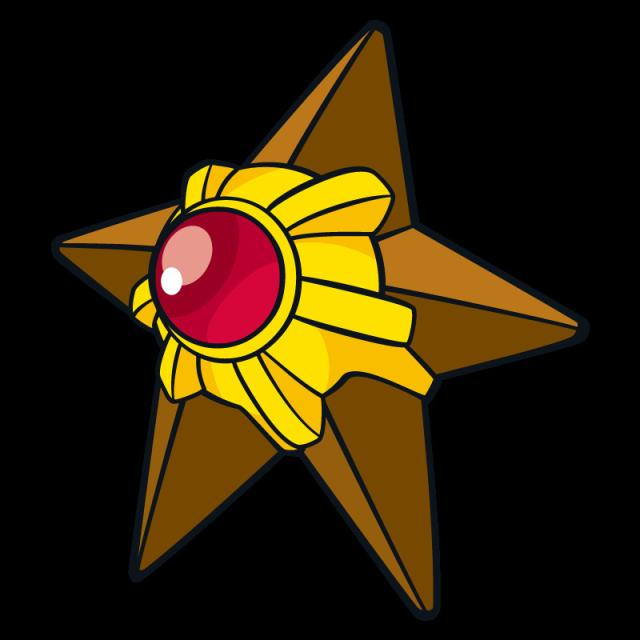Staryu: (57, 21, 586, 582)
